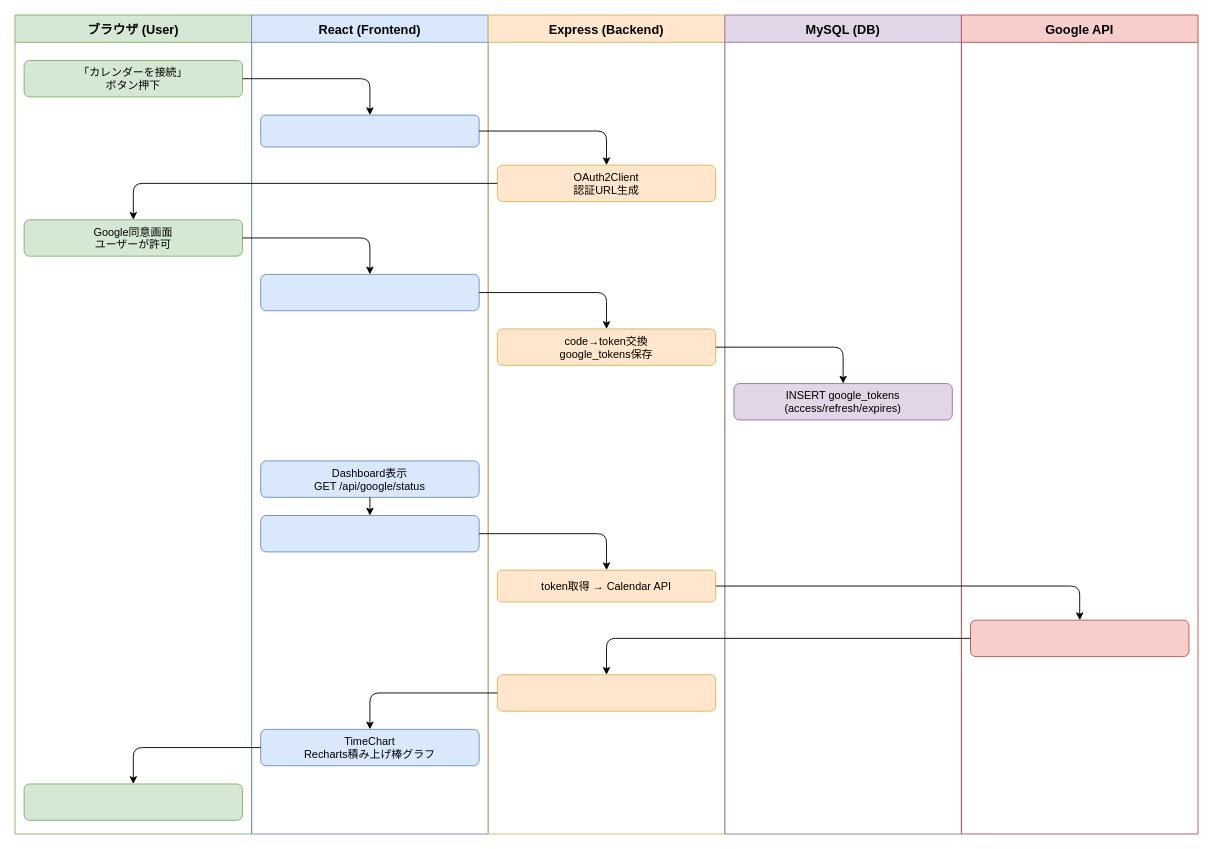
Some shapes in this 1213 by 849 pixel diagram are drawn without their labels. Here are the shapes that lost their labels. From the top down, the centre of each, then its label:
point (369, 130): GET /api/google/auth-url
point (369, 292): GoogleCallback code取得 → POST callback
point (369, 533): GET /api/calendar/summary ?period=7d
point (1079, 638): events.list() イベント一覧返却
point (606, 692): カテゴリ別日ごと集計 全日付埋め対応
point (133, 801): 棒グラフ閲覧 期間切替(7日/週/月)
